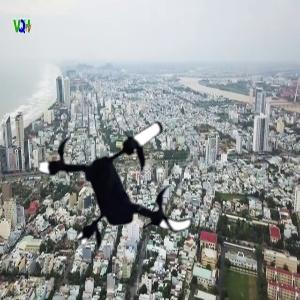drone: (40, 99, 209, 268)
